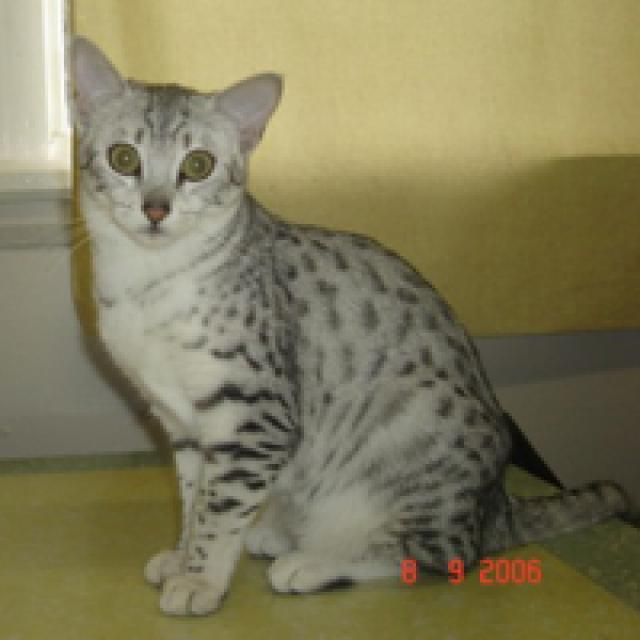Egyptian_Mau: (52, 28, 290, 249)
